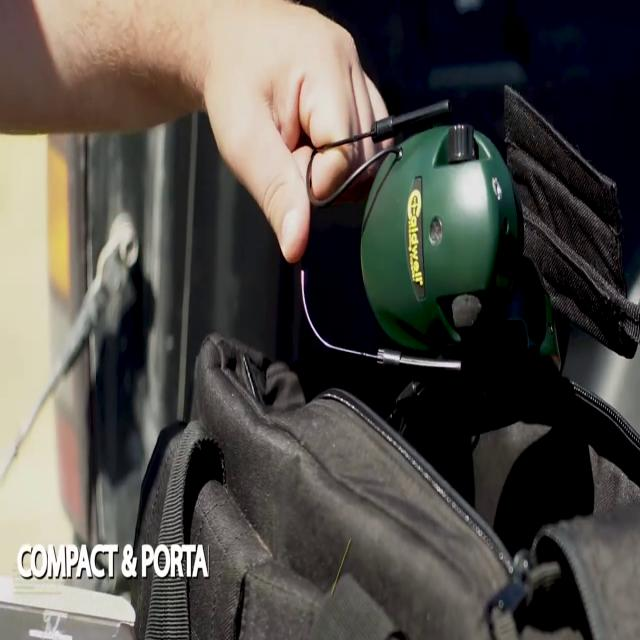earmuff: (356, 114, 528, 374)
